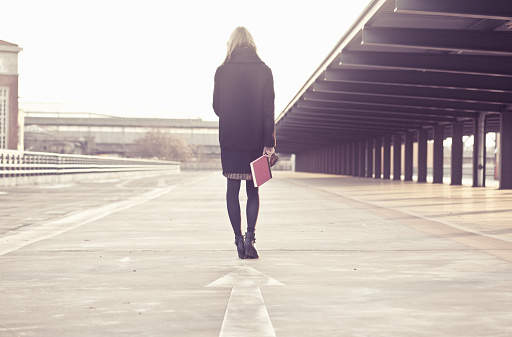em pe: (205, 18, 276, 264)
